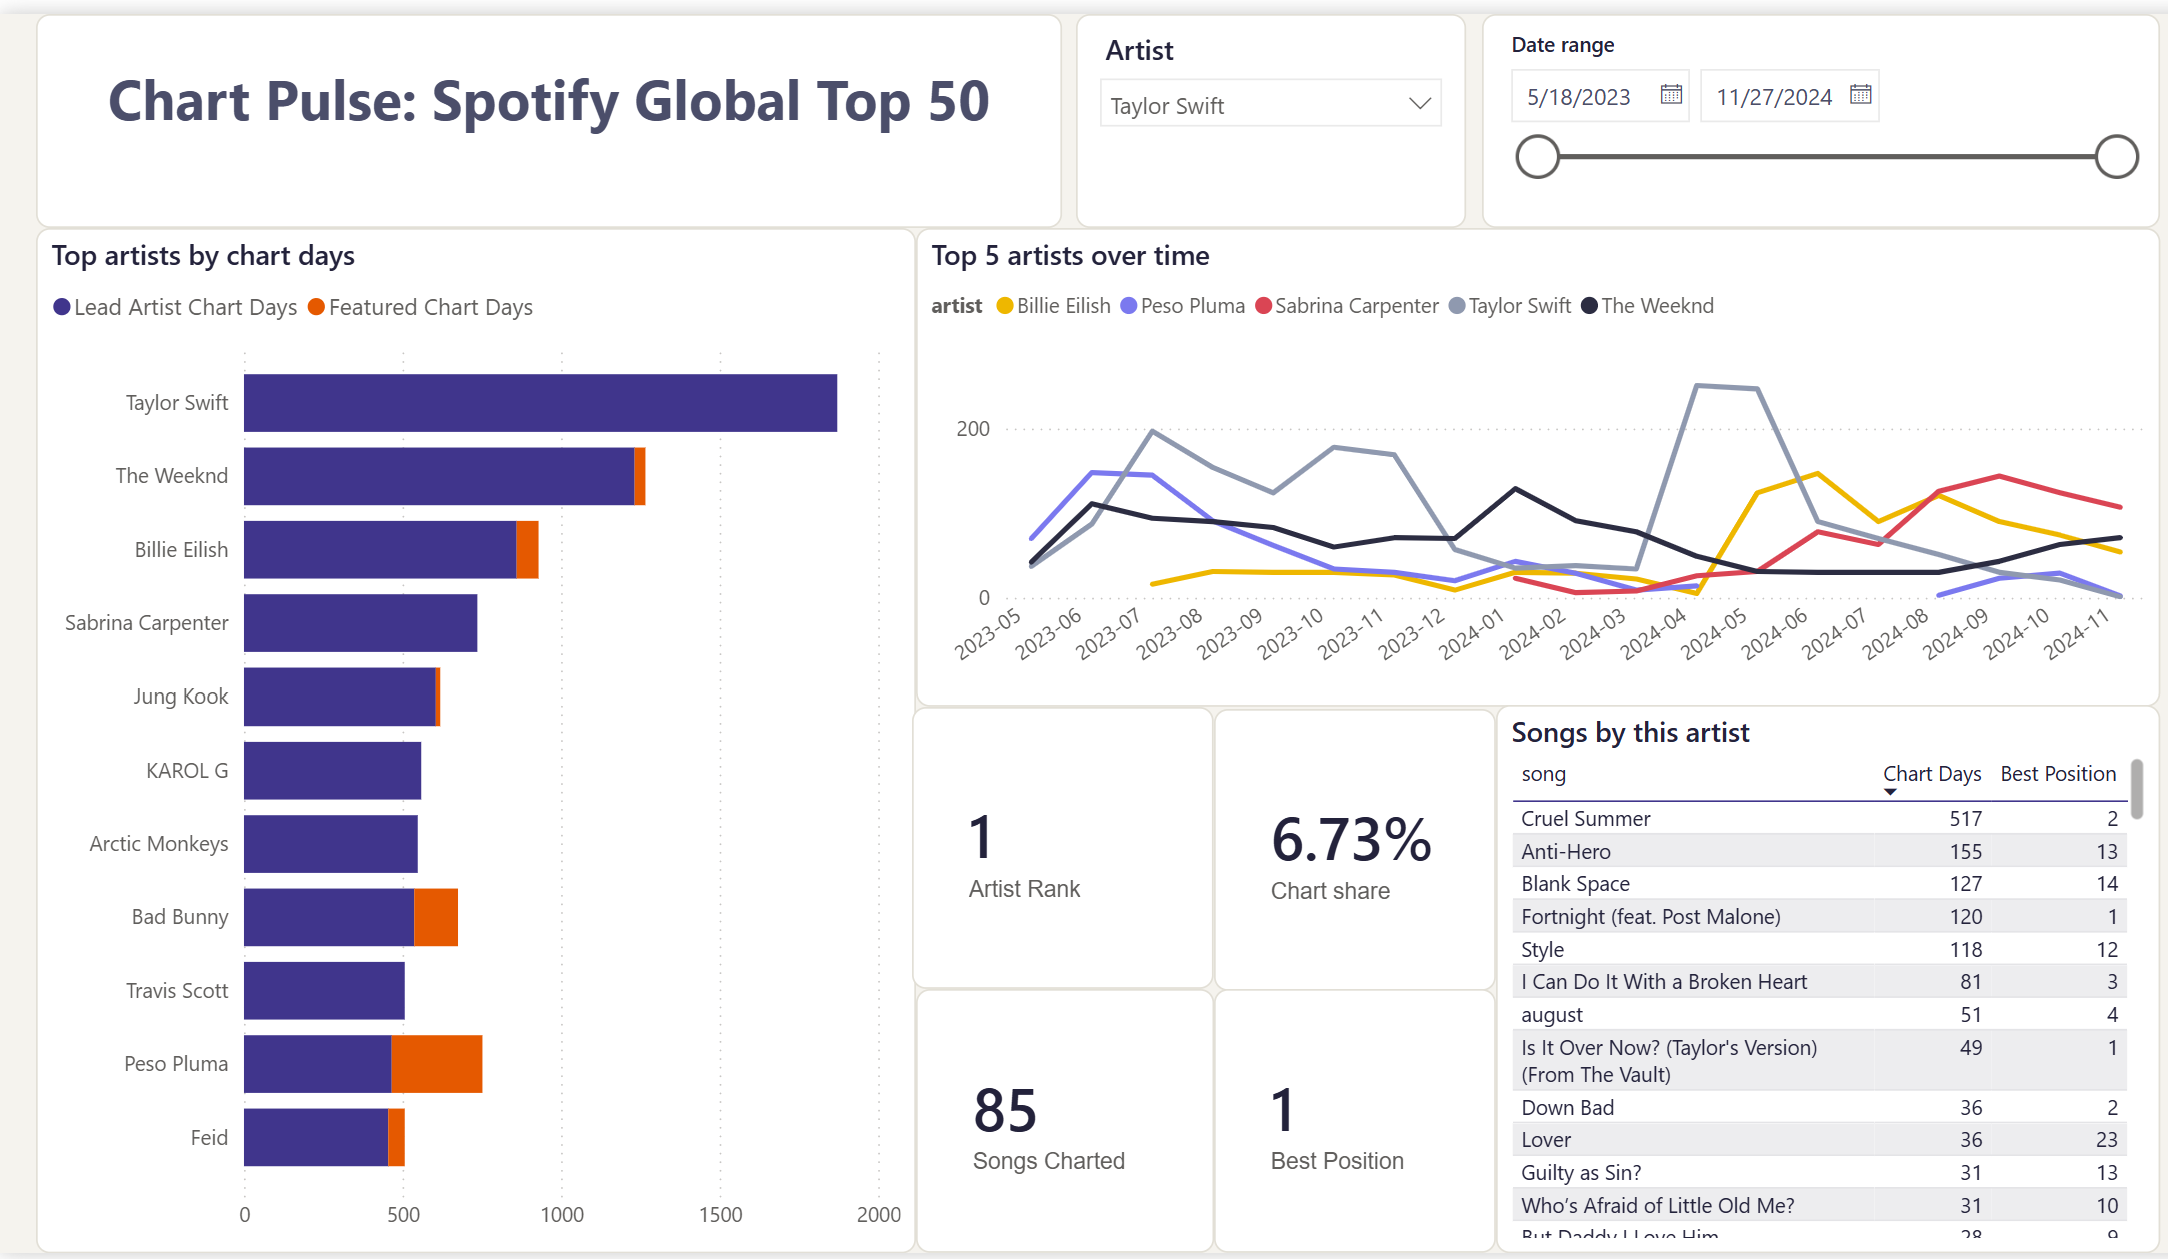

This screenshot's page, from the dashboard's own definition file:
{"tool":"powerbi","page":{"name":"Artist Dominance","canvas":[1280,720],"ordinal":2},"visuals":[{"type":"textbox","box":[20.9,0,596.9,124.5],"z":0},{"type":"slicer","fields":{"Values":["dim_date.date"]},"box":[862.3,0,394.5,124.5],"z":1000},{"type":"slicer","fields":{"Values":["dim_artist.artist"]},"box":[626,0,226.9,124.5],"z":2000},{"type":"barChart","title":"Top artists by chart days","fields":{"Category":["dim_artist.artist"],"Y":["_Measures.Lead Artist Chart Days","_Measures.Featured Chart Days"]},"box":[20.9,124.5,512,595.8],"z":3000},{"type":"lineChart","title":"Top 5 artists over time","fields":{"Category":["dim_date.year_month"],"Y":["_Measures.Chart Days"],"Series":["dim_artist.artist"]},"box":[532.9,124.5,723.8,278.1],"z":4000},{"type":"cardVisual","fields":{"Data":["_Measures.Artist Rank"]},"box":[530.6,402.6,175.7,164.1],"z":5000},{"type":"cardVisual","fields":{"Data":["_Measures.Artist Share of Chart %"]},"box":[706.3,403.8,164.1,164.1],"z":6000},{"type":"cardVisual","fields":{"Data":["_Measures.Songs Charted"]},"box":[532.9,566.7,173.4,153.6],"z":7000},{"type":"cardVisual","fields":{"Data":["_Measures.Best Position"]},"box":[706.3,566.7,164.1,153.6],"z":8000},{"type":"tableEx","title":"Songs by this artist","fields":{"Values":["dim_song.song","_Measures.Chart Days","_Measures.Best Position"]},"box":[870.4,401.5,386.3,318.8],"z":9000}]}

Visuals, with their boxes on the page's 1280x720 design canvas (x1, y1, x2, y2). These are canvas units, not pixel positions in the 2168x1259 screenshot, which may show the page scaled, cropped or inside an application window:
textbox: box=[21, 0, 618, 124]
slicer - dim_date.date: box=[862, 0, 1257, 124]
slicer - dim_artist.artist: box=[626, 0, 853, 124]
"Top artists by chart days" barChart: box=[21, 124, 533, 720]
"Top 5 artists over time" lineChart: box=[533, 124, 1257, 403]
cardVisual - _Measures.Artist Rank: box=[531, 403, 706, 567]
cardVisual - _Measures.Artist Share of Chart %: box=[706, 404, 870, 568]
cardVisual - _Measures.Songs Charted: box=[533, 567, 706, 720]
cardVisual - _Measures.Best Position: box=[706, 567, 870, 720]
"Songs by this artist" tableEx: box=[870, 402, 1257, 720]
